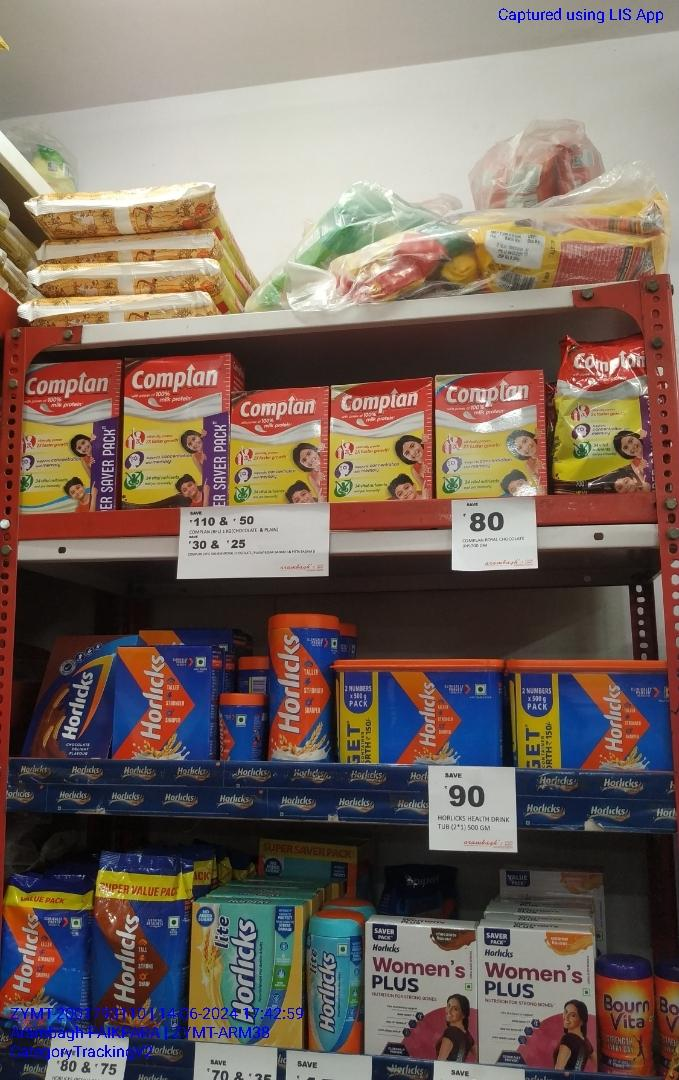BOURN_VITA_500_G_JAR: (601, 961, 653, 1077)
COMPLAN_CHOCOLATE_500_GMS_PACK: (122, 357, 228, 507), (230, 389, 327, 504)
COMPLAN_CREAMY_CLASSIC_500_G_PACK: (25, 361, 120, 511), (434, 372, 547, 496)
COMPLAN_KESAR_BADAM_500_GMS_PACK: (331, 380, 432, 500)
COMPLAN_RC_POUCH_700_GMS_12: (552, 339, 651, 493)
HORLICKS_LITE_REGULAR_MALT_500_GM_JAR: (307, 916, 360, 1052)
HORLICK_CHOCOLATE_750_G_POUCH: (93, 853, 189, 1007)
HORLICK_CLASSIC_MALT_500_G_JAR: (268, 612, 331, 761)
HORLICK_CLASSIC_MALT_500_G_PACK: (116, 645, 210, 758)
HORLICK_MALT_1_KG_CONTAINER: (337, 656, 503, 764), (512, 661, 665, 772)
